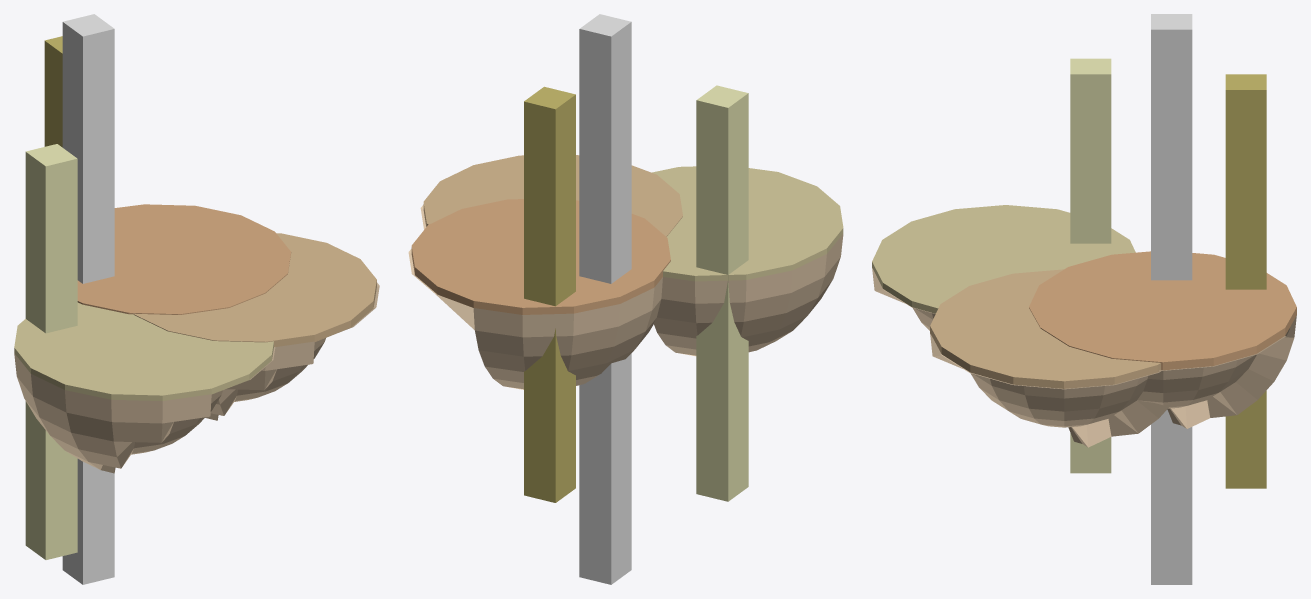
The model's file is yellow.fbx.
3 renders of one model, left to right at view 1: azimuth 30°, elevation 25°; view 2: azimuth 150°, elevation 25°; view 3: azimuth 270°, elevation 25°, orthographic.
Visible parts, largest first — view 1: Plane.002, Cube.002, Plane.001, Cube, Plane, Sphere.003, Sphere, Cube.001; view 2: Cube.002, Cube, Cube.001, Plane.002, Plane.001, Sphere.004, Sphere.003, Plane; view 3: Plane.002, Cube.002, Plane.001, Plane, Cube.001, Cube, Sphere, Sphere.004.
Boxes of the visible parts, x1,y1,x2,y2 form: Plane.002: (77,204,291,314); Cube.002: (62,14,114,584); Plane.001: (14,302,273,401); Cube: (25,144,77,559); Plane: (133,233,376,346); Sphere.003: (14,347,275,473); Sphere: (205,282,379,420); Cube.001: (44,36,62,147); Cube.002: (579,14,631,584); Cube: (696,85,748,501); Cube.001: (524,86,575,502); Plane.002: (411,199,670,314); Plane.001: (652,166,843,281); Sphere.004: (408,249,662,389); Sphere.003: (653,234,843,356); Plane: (423,155,682,236); Plane.002: (1029,251,1296,370); Cube.002: (1151,14,1192,584); Plane.001: (872,205,1135,313); Plane: (930,269,1160,388); Cube.001: (1225,74,1266,488); Cube: (1070,58,1111,473); Sphere: (930,333,1170,447); Sphere.004: (1137,315,1296,428).
Size of the model in its own units: 380 by 552 by 383.
